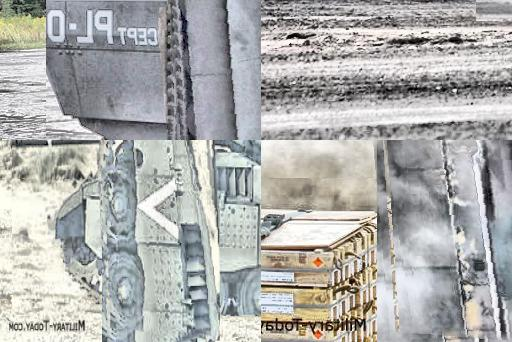tanks: (383, 141, 512, 342), (101, 141, 221, 336), (170, 1, 262, 141), (13, 141, 160, 149), (118, 141, 120, 144)
